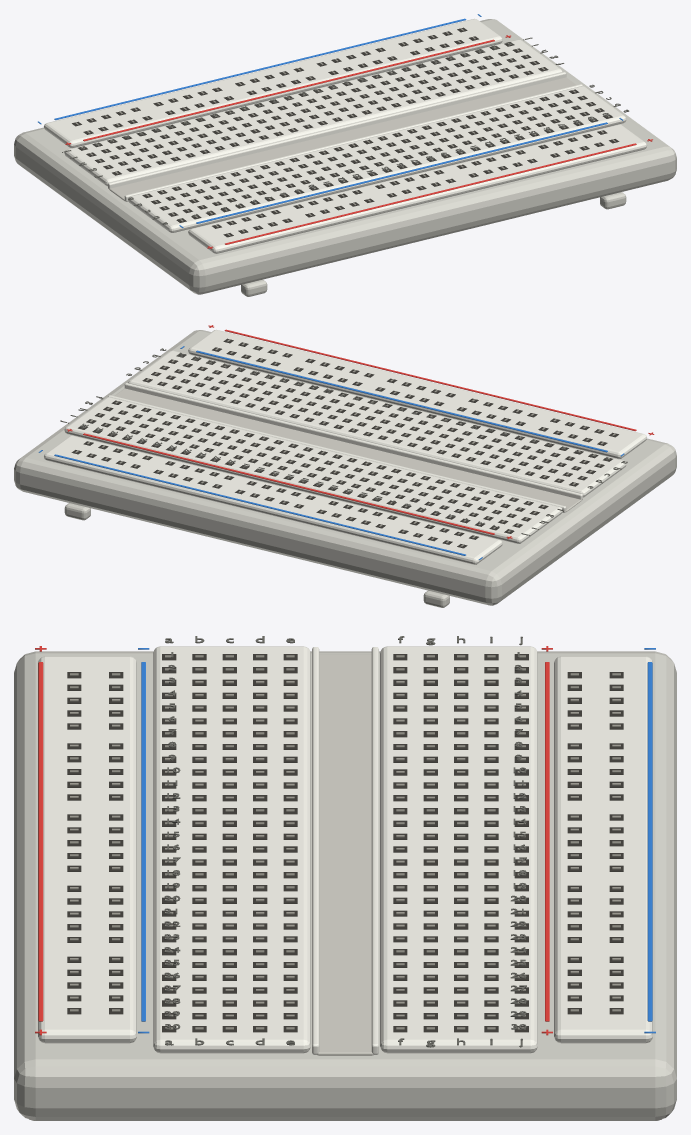
File: breadboard.glb
3 views of the same model, one above another, from view 1: azimuth 30°, elevation 25°; view 2: azimuth 150°, elevation 25°; view 3: azimuth 270°, elevation 25° (orthographic). The views are drawn at different scales.
Parts seen in each view (by area): view 1: Breadboard_Base, Terminal_Deck_Left, Terminal_Deck_Right, Socket_Recesses, Power_Deck_Bottom, Power_Deck_Top, Center_Trench, Socket_Contacts, Trench_Edge.001, Trench_Edge, Bottom_Blue_Line, Bottom_Red_Line (+2 smaller); view 2: Breadboard_Base, Terminal_Deck_Right, Terminal_Deck_Left, Socket_Recesses, Power_Deck_Top, Power_Deck_Bottom, Center_Trench, Socket_Contacts, Trench_Edge, Trench_Edge.001, Bottom_Blue_Line, Bottom_Red_Line (+2 smaller); view 3: Breadboard_Base, Terminal_Deck_Right, Terminal_Deck_Left, Socket_Recesses, Power_Deck_Top, Power_Deck_Bottom, Center_Trench, Socket_Contacts, Trench_Edge, Trench_Edge.001, Bottom_Red_Line, Top_Blue_Line (+2 smaller).
Boxes of the visible parts, x1=… form: Breadboard_Base: x1=14, y1=19, x2=676, y2=294; Terminal_Deck_Left: x1=128, y1=86, x2=626, y2=232; Terminal_Deck_Right: x1=64, y1=39, x2=562, y2=186; Socket_Recesses: x1=72, y1=27, x2=619, y2=237; Power_Deck_Bottom: x1=188, y1=124, x2=646, y2=253; Power_Deck_Top: x1=44, y1=18, x2=502, y2=147; Center_Trench: x1=109, y1=77, x2=576, y2=200; Socket_Contacts: x1=75, y1=28, x2=615, y2=235; Trench_Edge.001: x1=108, y1=72, x2=566, y2=188; Trench_Edge: x1=124, y1=84, x2=582, y2=201; Bottom_Blue_Line: x1=196, y1=122, x2=607, y2=223; Bottom_Red_Line: x1=225, y1=143, x2=636, y2=244; Breadboard_Base: x1=14, y1=330, x2=676, y2=605; Terminal_Deck_Right: x1=64, y1=397, x2=562, y2=543; Terminal_Deck_Left: x1=128, y1=350, x2=626, y2=497; Socket_Recesses: x1=71, y1=338, x2=618, y2=548; Power_Deck_Top: x1=44, y1=435, x2=502, y2=564; Power_Deck_Bottom: x1=188, y1=329, x2=646, y2=458; Center_Trench: x1=114, y1=388, x2=581, y2=511; Socket_Contacts: x1=75, y1=339, x2=615, y2=546; Trench_Edge: x1=124, y1=383, x2=582, y2=499; Trench_Edge.001: x1=108, y1=395, x2=566, y2=512; Bottom_Blue_Line: x1=196, y1=350, x2=607, y2=452; Bottom_Red_Line: x1=224, y1=329, x2=636, y2=431; Breadboard_Base: x1=14, y1=651, x2=676, y2=1120; Terminal_Deck_Right: x1=380, y1=646, x2=537, y2=1053; Terminal_Deck_Left: x1=153, y1=646, x2=310, y2=1053; Socket_Recesses: x1=67, y1=654, x2=623, y2=1032; Power_Deck_Top: x1=554, y1=656, x2=652, y2=1043; Power_Deck_Bottom: x1=38, y1=656, x2=136, y2=1043; Center_Trench: x1=317, y1=654, x2=373, y2=1055; Socket_Contacts: x1=70, y1=655, x2=620, y2=1029; Trench_Edge: x1=312, y1=647, x2=319, y2=1054; Trench_Edge.001: x1=371, y1=647, x2=378, y2=1054; Bottom_Red_Line: x1=38, y1=662, x2=43, y2=1021; Top_Blue_Line: x1=647, y1=662, x2=652, y2=1021.
Bounding box in the file's own units: 0.84 × 0.0894 × 0.555.
